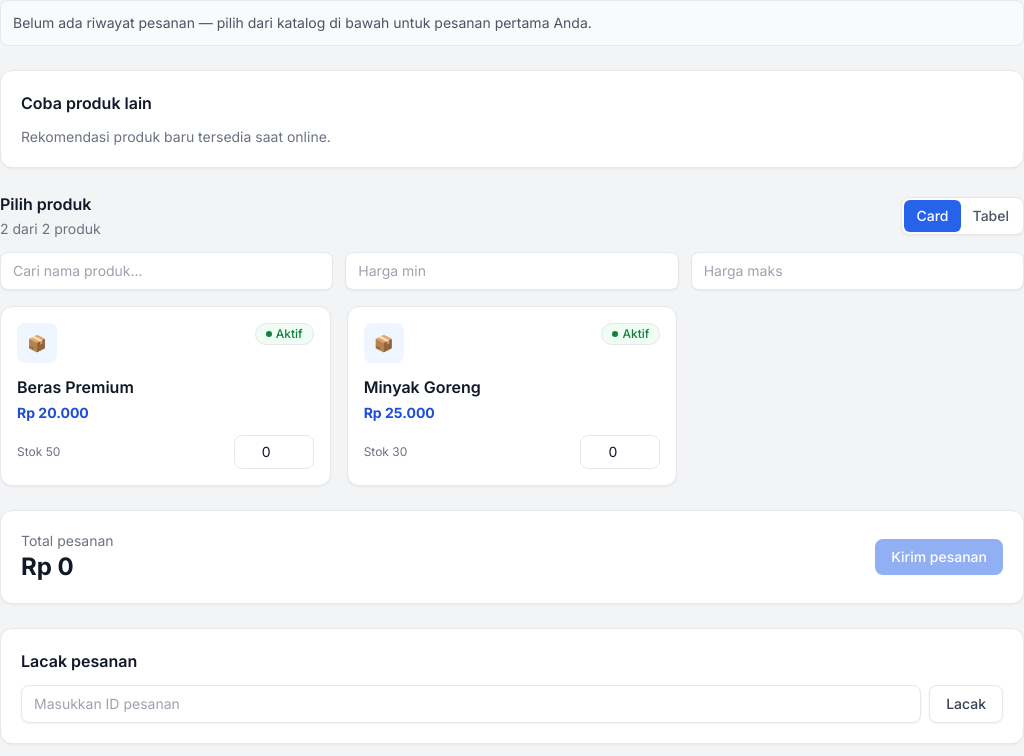
Scenario: OrderForm — offline queue integration › submits order to queue when offline and shows waiting message
The width and height of the screenshot is (1024, 756).
# Add items to cart
Replace the text in the number field named "Jumlah Beras Premium" with "2": (274, 452) [234,435,314,469]
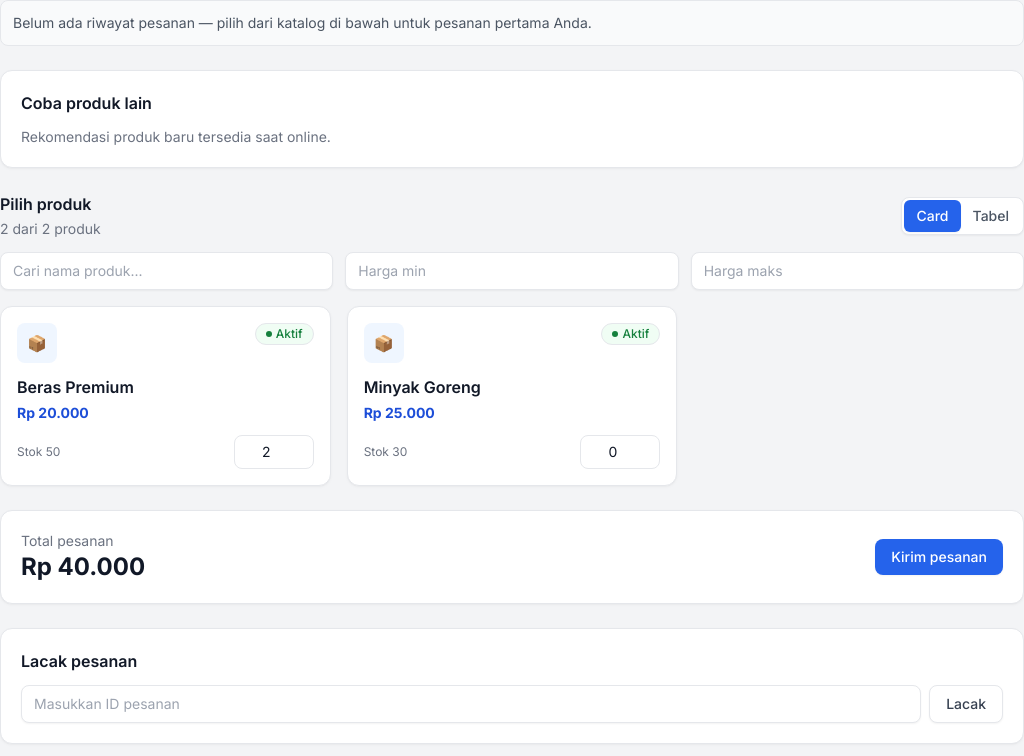
Replace the text in the number field named "Jumlah Minyak Goreng" with "1": (620, 452) [580,435,660,469]
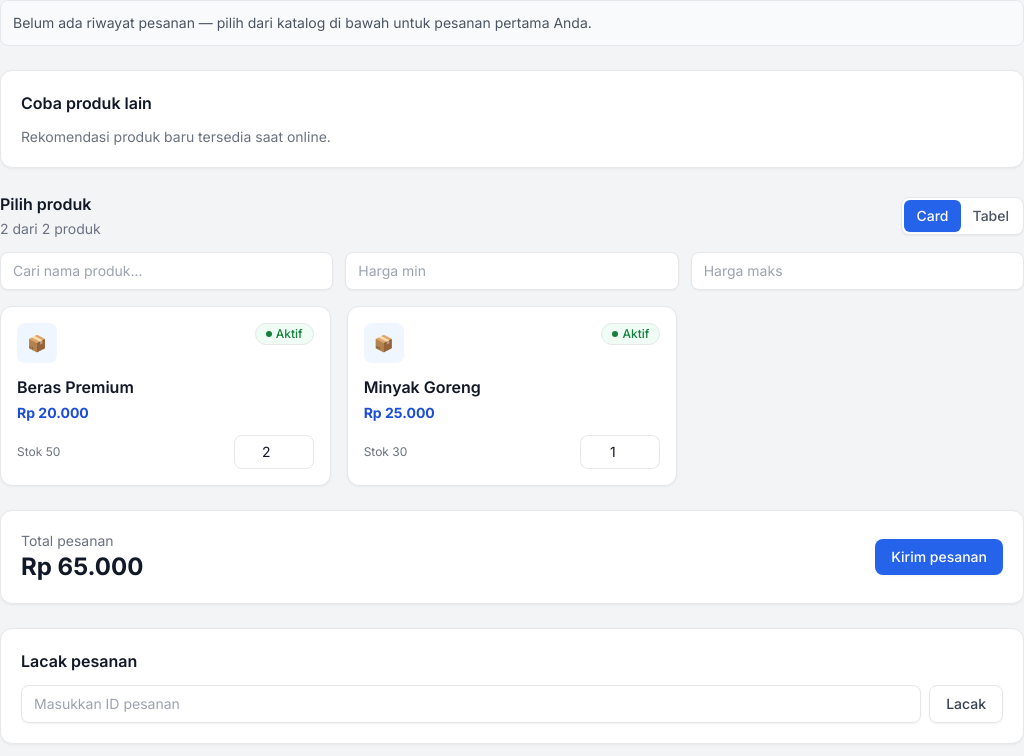
Click the button "Kirim pesanan": (939, 557) [875,539,1003,575]
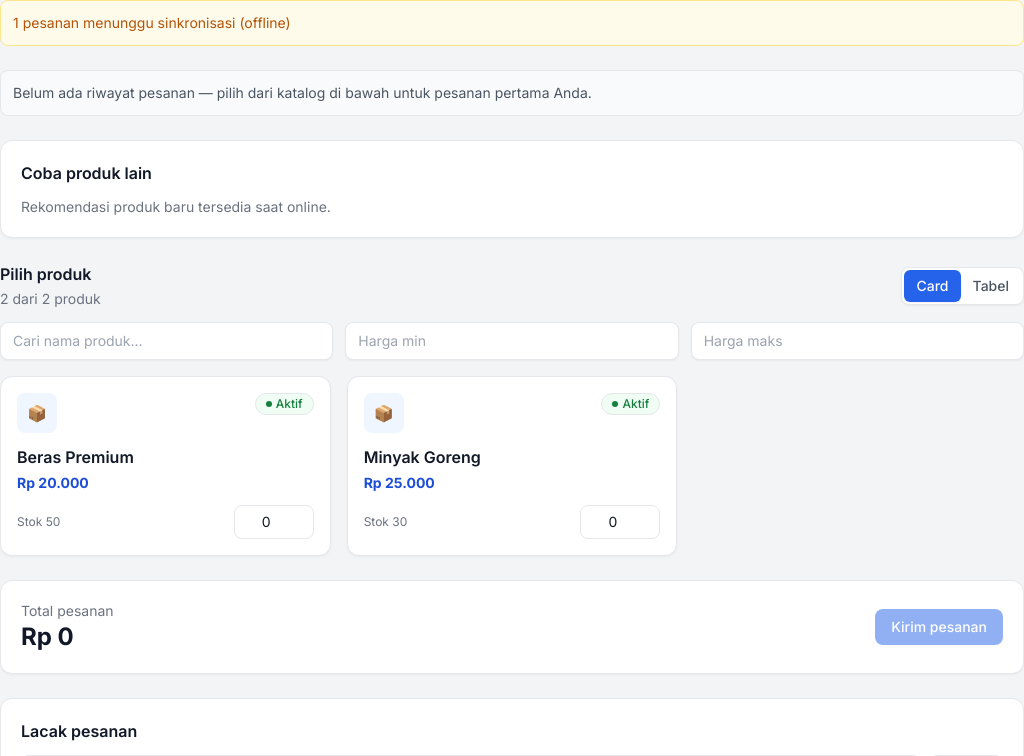
Expected: the text "1 pesanan menunggu sinkronisasi (offline)" is shown, [0,0,1023,46]
